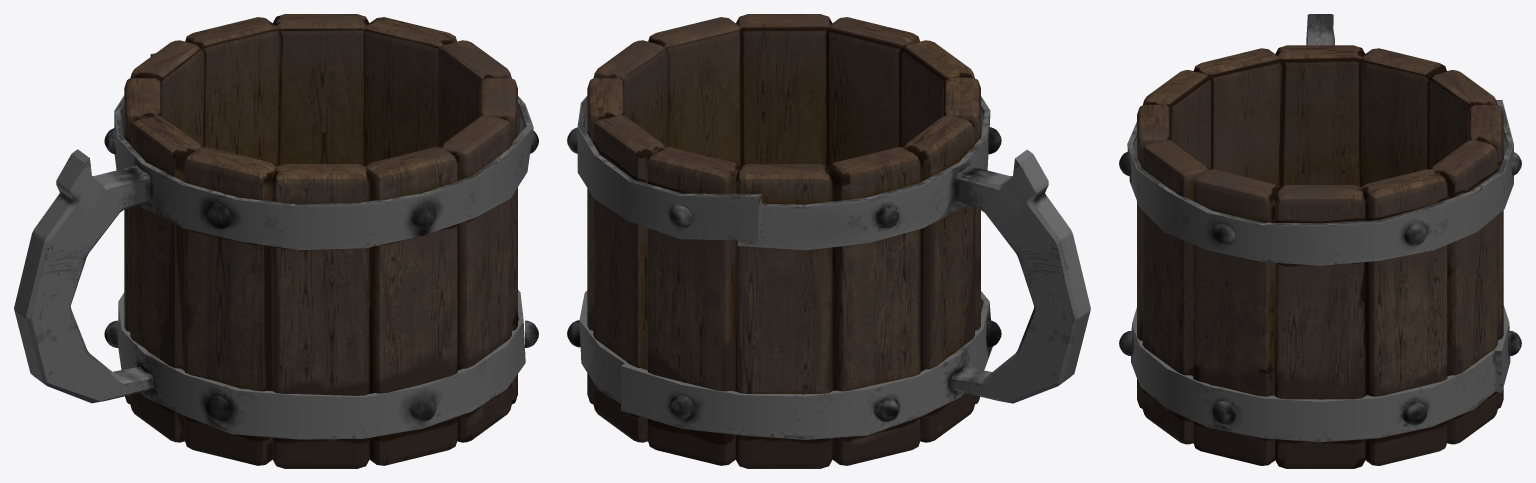
The model's file is viking_model_asset_-_cup.glb.
3 views of the same model, side by side, from view 1: azimuth 30°, elevation 25°; view 2: azimuth 150°, elevation 25°; view 3: azimuth 270°, elevation 25° (orthographic). The views are drawn at different scales.
Parts seen in each view (by area): view 1: VikingMug; view 2: VikingMug; view 3: VikingMug.
Part boxes in pixels (bbox=[...]): VikingMug: bbox=[14, 14, 538, 468]; VikingMug: bbox=[567, 14, 1090, 468]; VikingMug: bbox=[1119, 14, 1521, 468].
Size of the model in its own units: 0.1165 by 0.0684 by 0.0908.
Materials: 1 (1 with a texture image).
